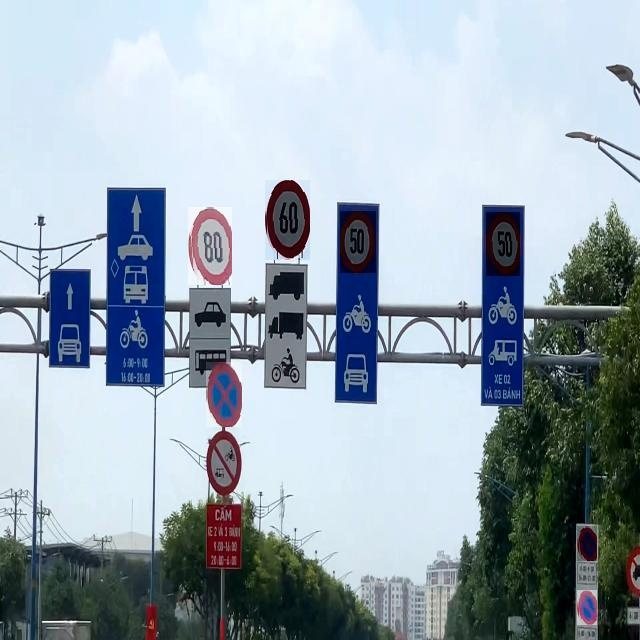bien_chi_dan: (265, 180, 310, 260), (188, 207, 232, 285), (206, 362, 242, 427), (340, 211, 376, 273), (486, 212, 520, 276), (577, 526, 597, 561), (577, 590, 597, 625)
